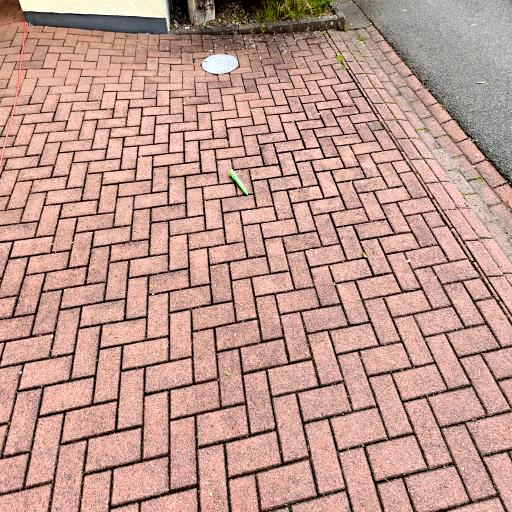Probe-Detection: (229, 169, 248, 195)
